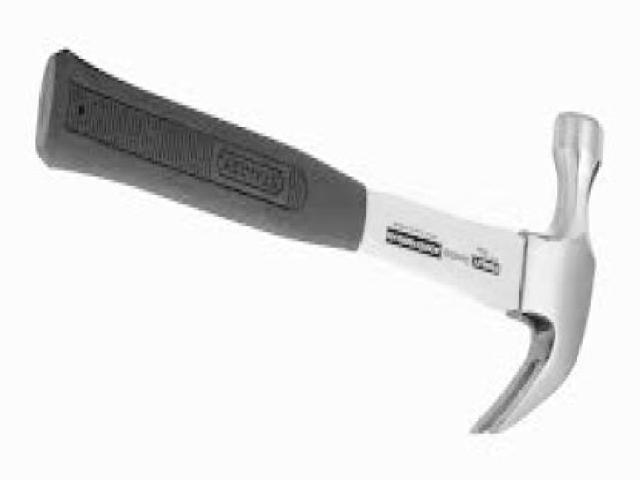Hammer: (36, 51, 602, 434)
